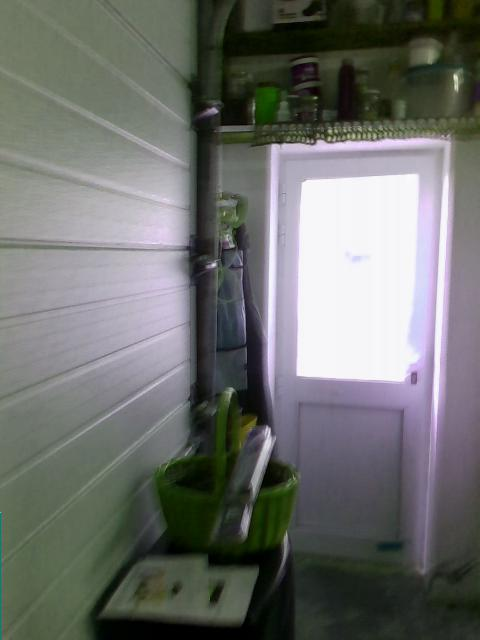closed_door: (266, 133, 453, 584)
